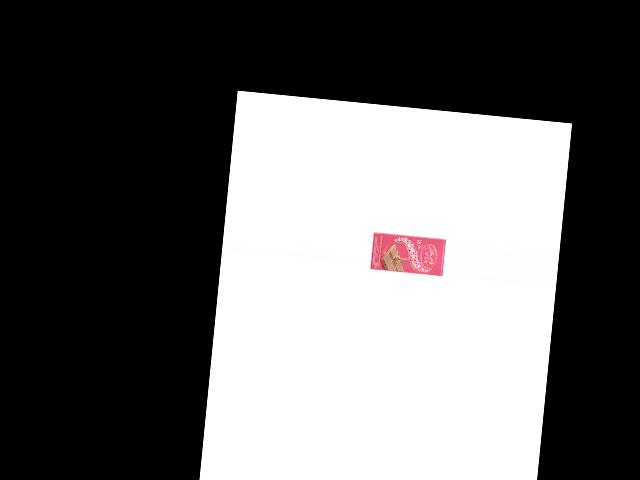chocolate: (370, 230, 445, 280)
